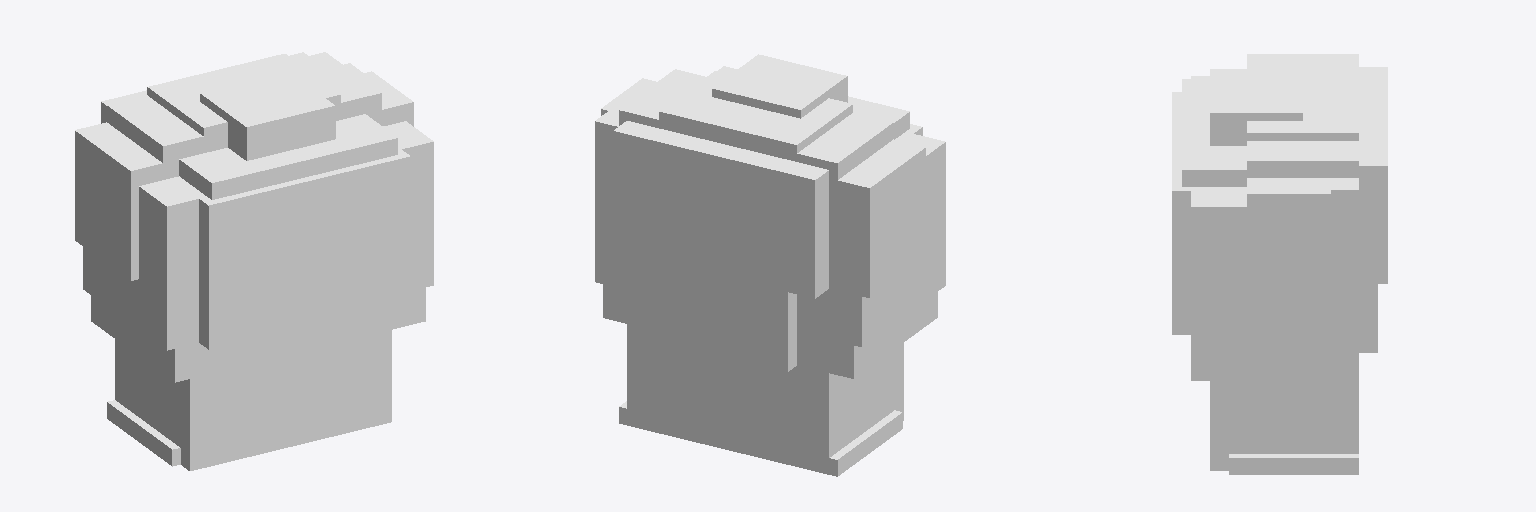
The model's file is Zeds-0-Zed_1-5.obj.
3 views of the same model, side by side, from view 1: azimuth 30°, elevation 25°; view 2: azimuth 150°, elevation 25°; view 3: azimuth 270°, elevation 25° (orthographic).
Visible parts, largest first — view 1: object 1; view 2: object 1; view 3: object 1.
Boxes of the visible parts, x1=… form: object 1: x1=75, y1=52, x2=433, y2=470; object 1: x1=595, y1=54, x2=945, y2=476; object 1: x1=1172, y1=54, x2=1387, y2=474.
Bounding box in the file's own units: 3.5 × 3.9 × 2.3.